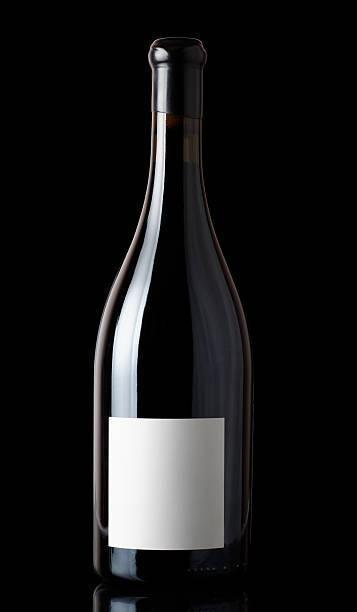bottle-glass: (87, 32, 258, 593)
